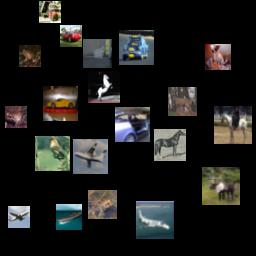airplane: (136, 201, 174, 239), (73, 139, 108, 174), (8, 206, 30, 228)
automobile: (115, 107, 150, 142), (119, 30, 154, 65), (43, 86, 78, 121), (60, 25, 82, 47)
bird: (35, 136, 70, 171)
cat: (83, 39, 112, 68)
deer: (202, 167, 240, 205), (168, 87, 197, 116)
dog: (205, 44, 231, 70)
frog: (88, 190, 117, 219), (19, 45, 41, 67), (5, 106, 27, 128)
ship: (56, 204, 82, 230)
truck: (39, 1, 61, 23)
